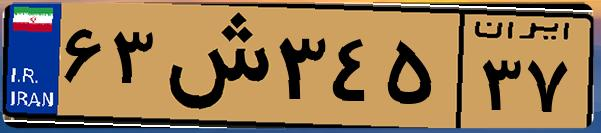3: (270, 28, 330, 110), (475, 38, 525, 113), (110, 28, 158, 98)
4: (330, 28, 385, 110)
5: (385, 28, 445, 110)
6: (57, 26, 110, 100)
7: (525, 38, 570, 115)
ش: (158, 12, 270, 120)
